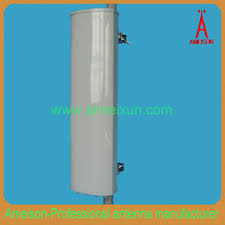sa: (46, 3, 141, 198)
